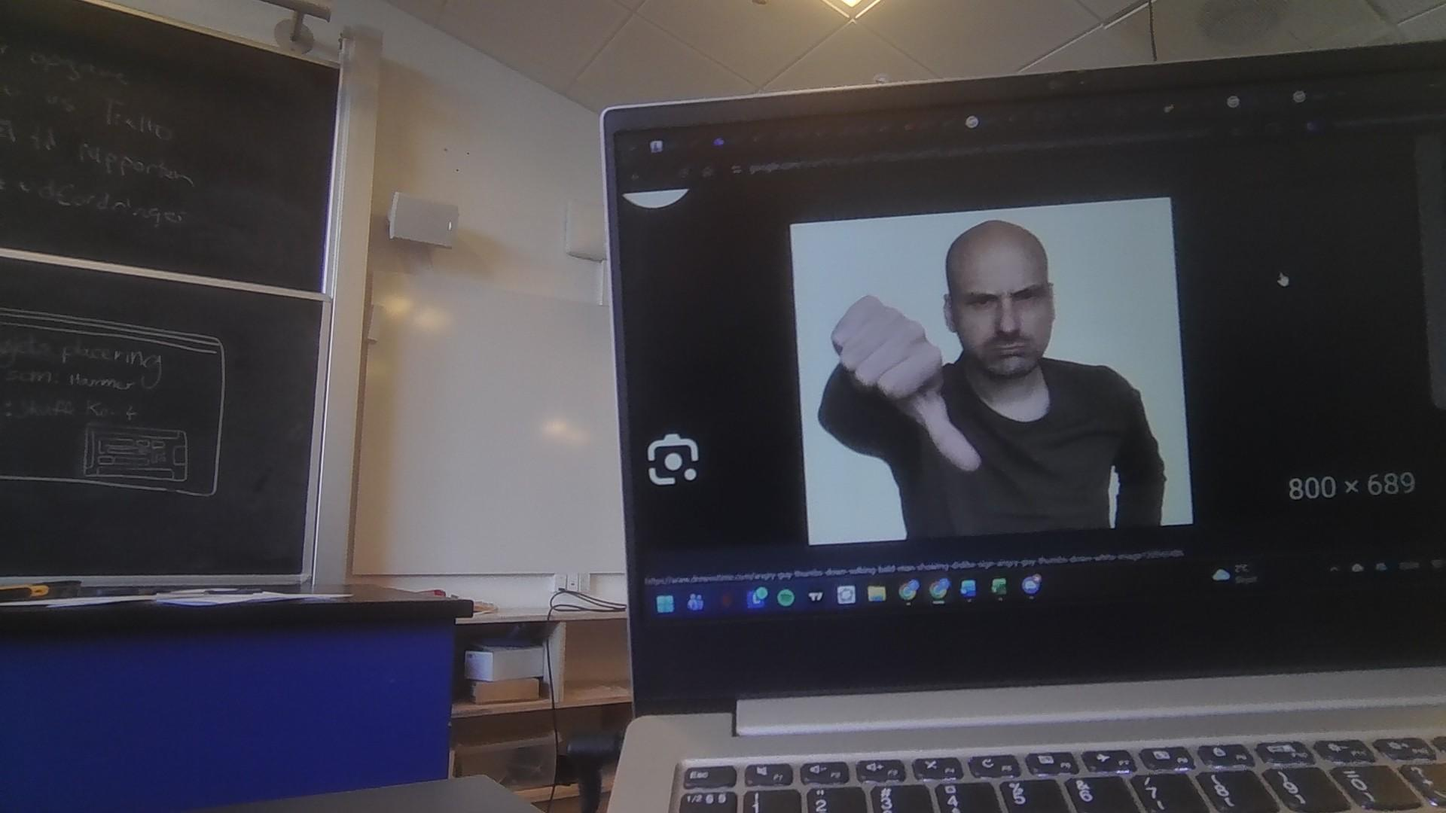thumbs down: (830, 298, 985, 476)
